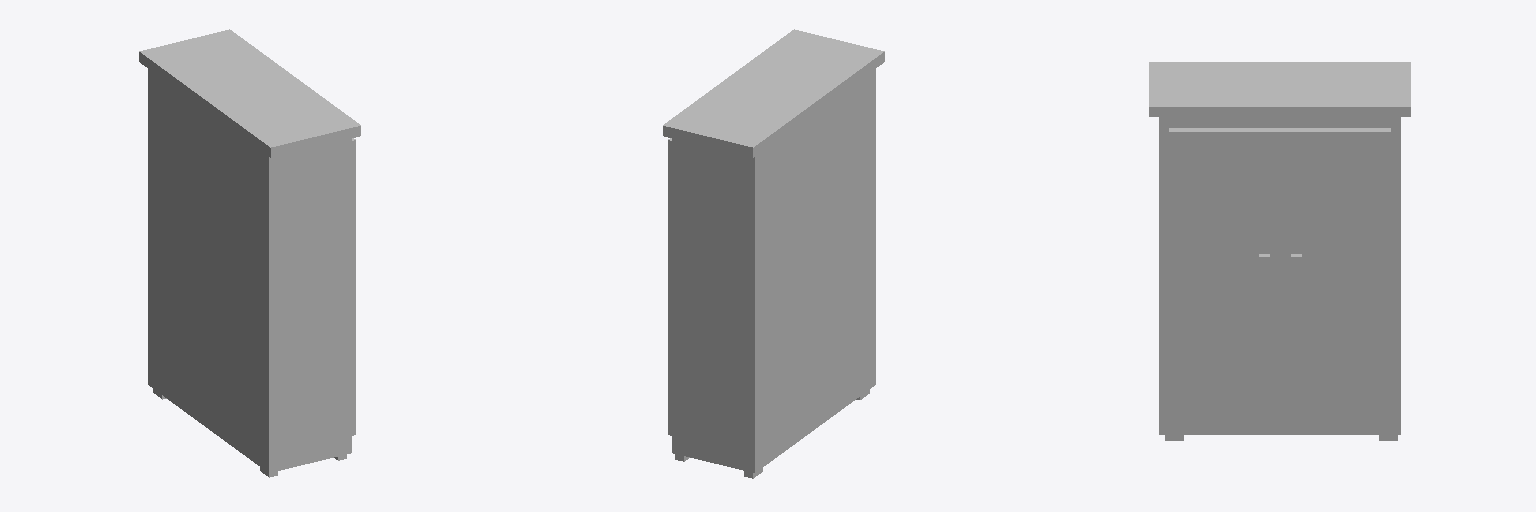
The model's file is closet.obj.
3 views of the same model, side by side, from view 1: azimuth 30°, elevation 25°; view 2: azimuth 150°, elevation 25°; view 3: azimuth 270°, elevation 25° (orthographic).
Visible parts, largest first — view 1: armario; view 2: armario; view 3: armario.
Part boxes in pixels (bbox=[...]): armario: bbox=[139, 29, 360, 477]; armario: bbox=[663, 29, 884, 478]; armario: bbox=[1149, 62, 1410, 440].
Size of the model in its own units: 0.1105 by 0.349 by 0.2462.